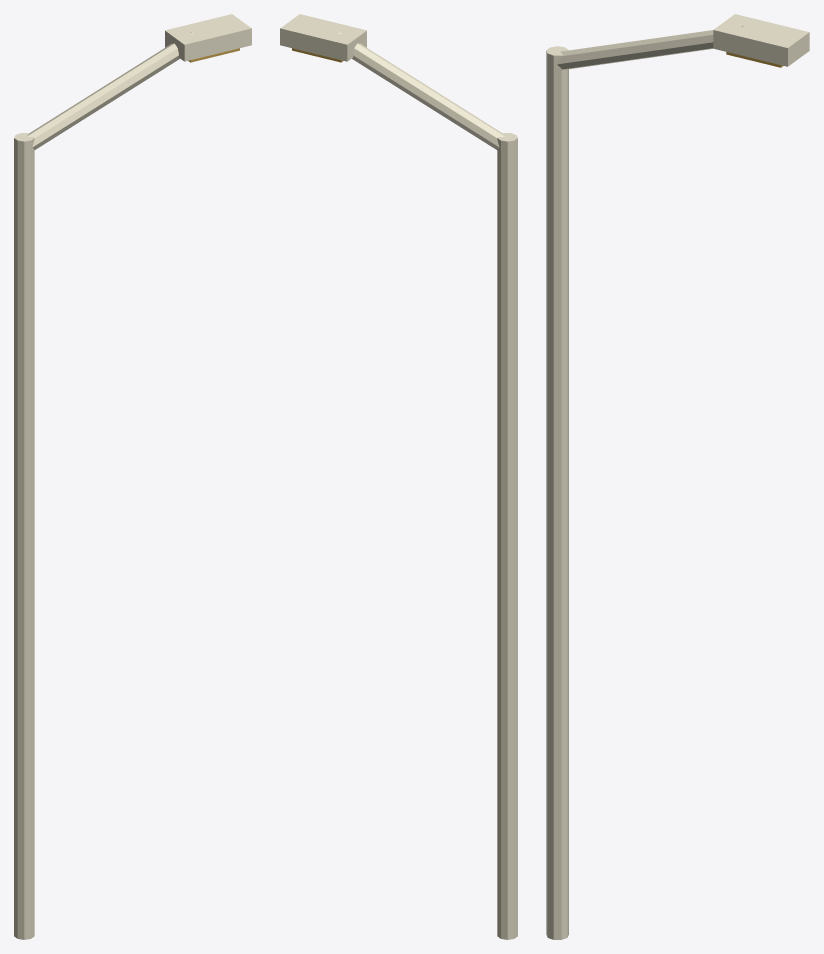
The model's file is street_lamp.glb.
The picture shows the model from 3 angles, left to right: view 1: azimuth 30°, elevation 25°; view 2: azimuth 150°, elevation 25°; view 3: azimuth 330°, elevation 25°; orthographic projection. The views are drawn at different scales.
Parts seen in each view (by area): view 1: street_lamp; view 2: street_lamp; view 3: street_lamp.
Part boxes in pixels (x1,y1,x2,y2): street_lamp: [14, 14, 251, 939]; street_lamp: [280, 14, 517, 939]; street_lamp: [546, 14, 809, 939].
Size of the model in its own units: 2.52 by 9.18 by 0.38.
